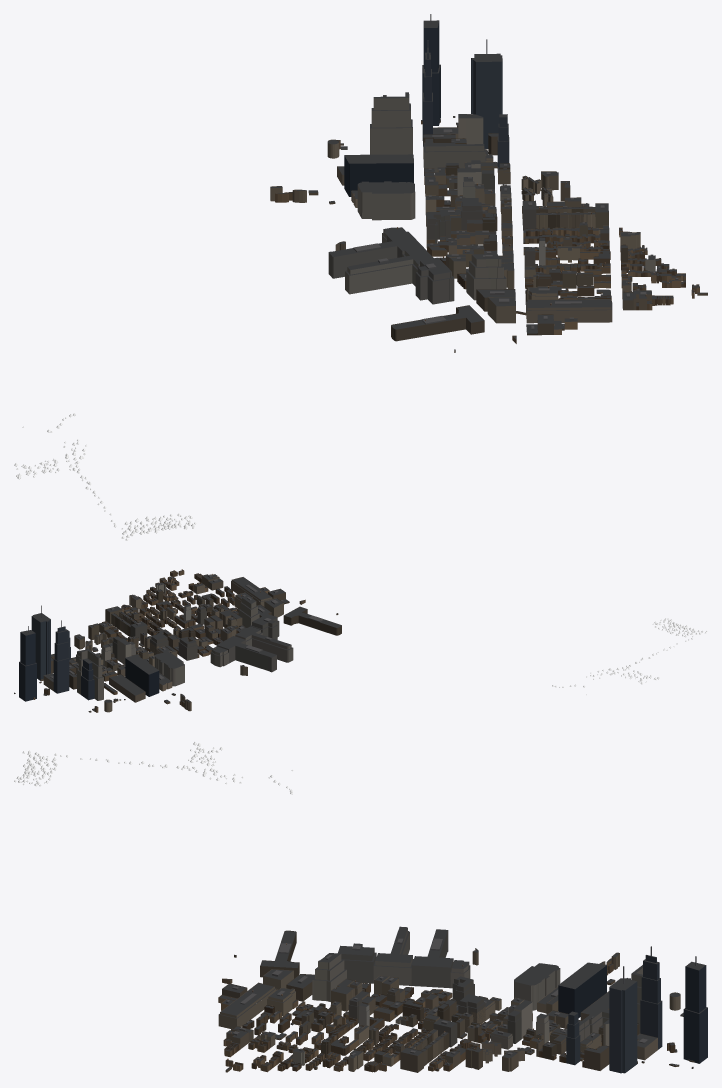
File: manhattan_-03_-03.glb
3 renders of one model, top to bottom at view 1: azimuth 30°, elevation 25°; view 2: azimuth 150°, elevation 25°; view 3: azimuth 270°, elevation 25°, orthographic. The views are drawn at different scales.
Parts seen in each view (by area): view 1: BLD_midrise_-03_-03, BLD_towers_-03_-03, BLD_lowrise_-03_-03, TREE_-03_-03; view 2: BLD_midrise_-03_-03, BLD_towers_-03_-03, BLD_lowrise_-03_-03, TREE_-03_-03; view 3: BLD_midrise_-03_-03, BLD_towers_-03_-03, BLD_lowrise_-03_-03, TREE_-03_-03.
Part boxes in pixels (bbox=[...]): BLD_midrise_-03_-03: bbox=[270, 127, 655, 341]; BLD_towers_-03_-03: bbox=[344, 14, 509, 300]; BLD_lowrise_-03_-03: bbox=[275, 116, 707, 352]; TREE_-03_-03: bbox=[14, 413, 196, 540]; BLD_midrise_-03_-03: bbox=[43, 574, 341, 712]; BLD_towers_-03_-03: bbox=[19, 595, 259, 701]; BLD_lowrise_-03_-03: bbox=[14, 569, 338, 712]; TREE_-03_-03: bbox=[552, 618, 707, 695]; BLD_midrise_-03_-03: bbox=[218, 926, 680, 1072]; BLD_towers_-03_-03: bbox=[312, 946, 707, 1073]; BLD_lowrise_-03_-03: bbox=[218, 954, 694, 1072]; TREE_-03_-03: bbox=[14, 742, 293, 794].
Size of the model in its own units: 2322 by 336 by 2070.
